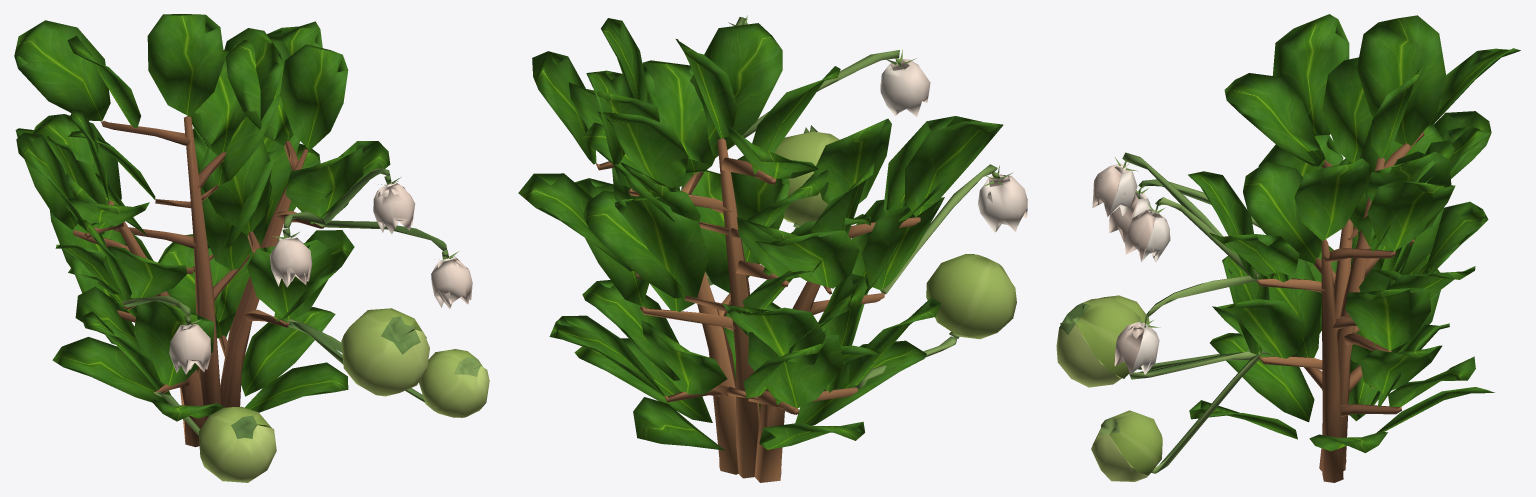
File: NP_Blueberry_Flowering_LOD1.fbx
3 renders of one model, left to right at view 1: azimuth 30°, elevation 25°; view 2: azimuth 150°, elevation 25°; view 3: azimuth 270°, elevation 25°, orthographic. The views are drawn at different scales.
Parts seen in each view (by area): view 1: NP_Blueberry_Flowering; view 2: NP_Blueberry_Flowering; view 3: NP_Blueberry_Flowering.
Boxes of the visible parts, <box> form: NP_Blueberry_Flowering: <box>14,14,489,482</box>; NP_Blueberry_Flowering: <box>518,15,1027,482</box>; NP_Blueberry_Flowering: <box>1056,14,1520,482</box>.
Size of the model in its own units: 80.73 by 80.34 by 83.97.
